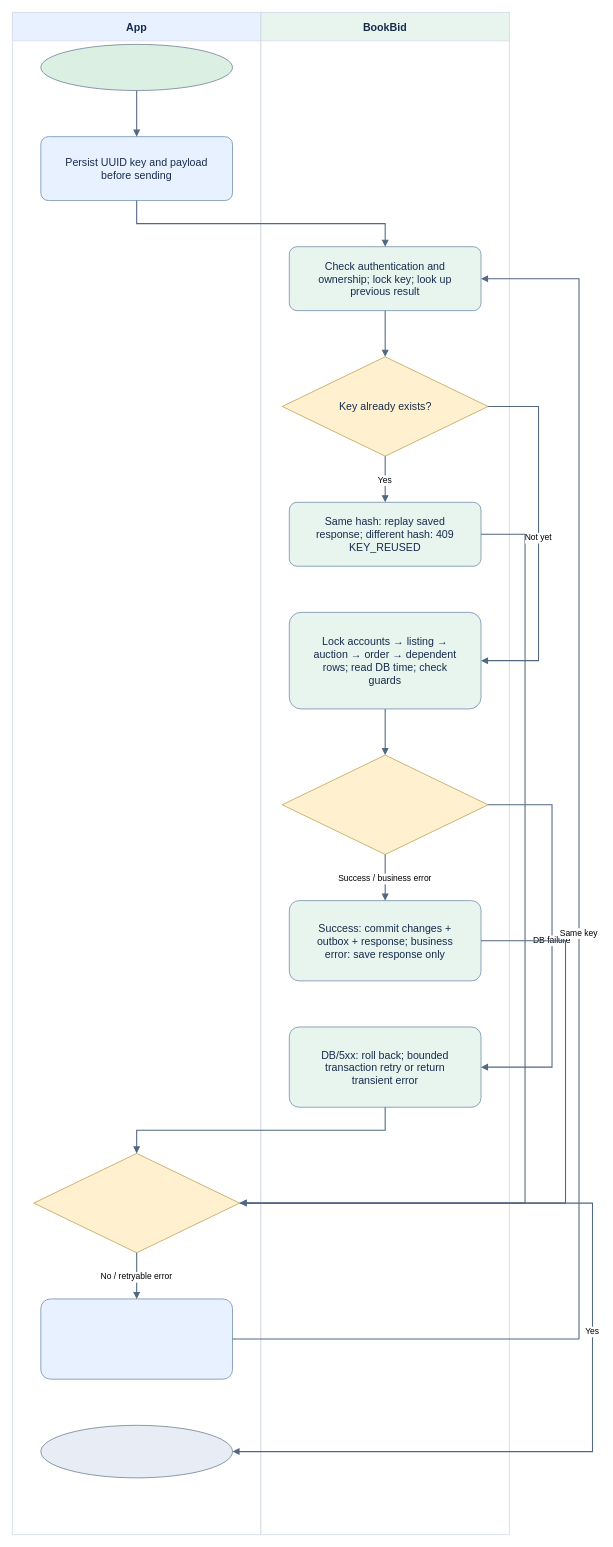
The diagram is 613 pixels wide and 1547 high, and some of its shapes have lost their labels. Here are the shapes that lost their labels. From the top down, the centre of each, then its label:
the point at 136,67: User confirms an operation
the point at 385,804: Success, business error or DB failure?
the point at 136,1203: App has a definite result?
the point at 136,1338: Network loss: outcome unknown; refresh or resend same key + payload; backoff
the point at 136,1451: Show result; changing payload requires confirmation of a new operation
